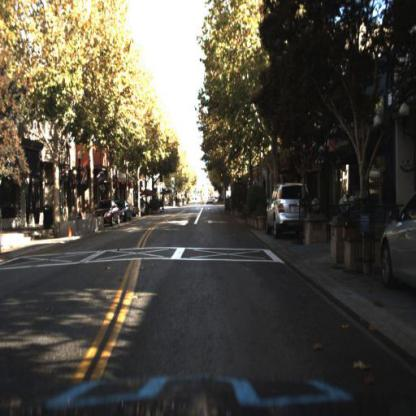car: (380, 196, 416, 297), (264, 179, 313, 240), (95, 196, 121, 229), (119, 199, 133, 222)
